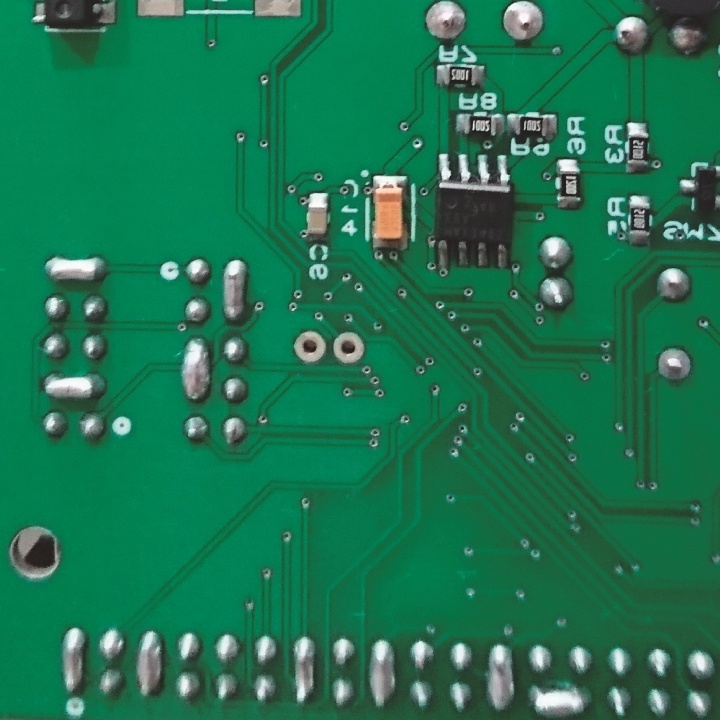F: (421, 1, 468, 46), (502, 1, 547, 46), (654, 342, 693, 389), (329, 327, 367, 366), (290, 327, 326, 366)
P: (527, 680, 597, 720), (176, 333, 213, 406), (39, 252, 113, 288), (39, 369, 112, 404), (484, 642, 518, 712), (219, 254, 250, 325), (367, 637, 396, 711), (59, 624, 90, 693), (135, 626, 161, 700), (290, 633, 313, 708)
